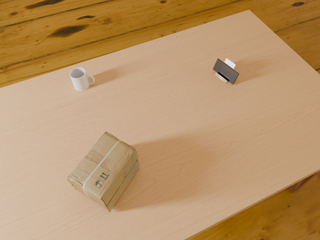box: (67, 132, 139, 212)
cup: (70, 67, 95, 91)
phone: (213, 59, 239, 84)
